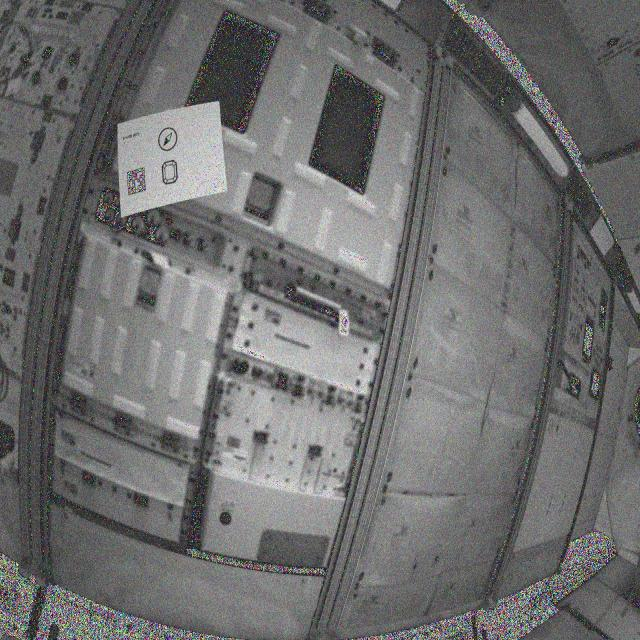compass: (159, 127, 181, 153)
emerald: (162, 157, 182, 188)
